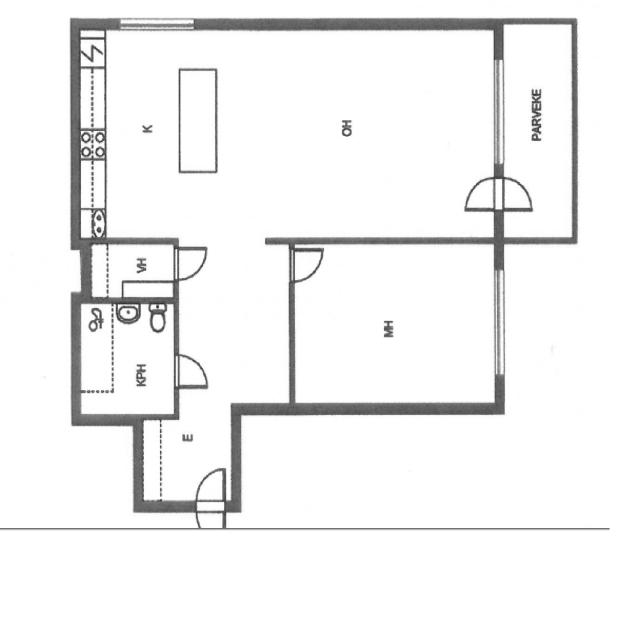door: (456, 175, 528, 213), (190, 463, 230, 525), (492, 174, 540, 213), (168, 242, 210, 285), (169, 349, 213, 390), (288, 244, 328, 285)
window: (488, 262, 511, 383), (488, 52, 510, 170), (114, 12, 201, 38)
zone: (76, 29, 500, 239), (290, 241, 503, 412), (175, 241, 294, 412), (72, 297, 180, 418), (80, 240, 179, 302)
